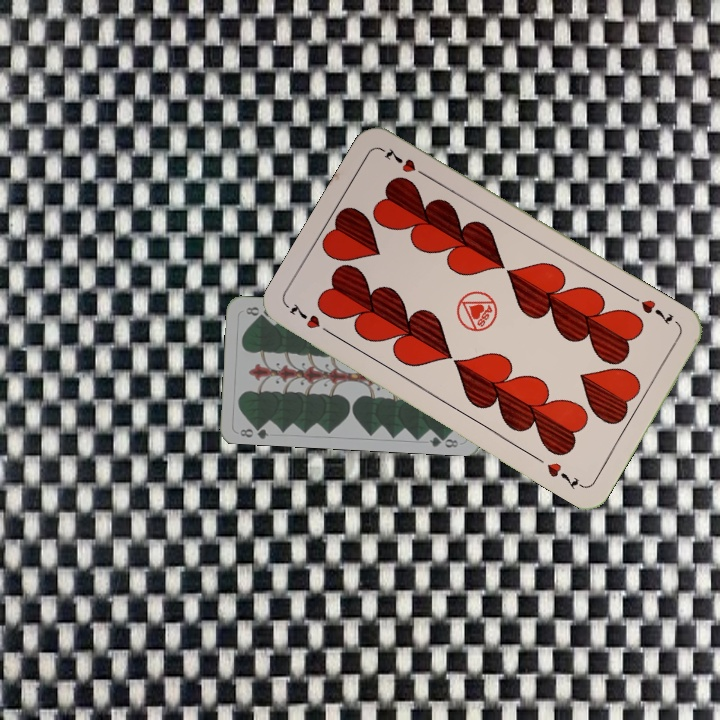G8: (236, 420, 271, 441)
H7: (283, 299, 337, 339), (637, 295, 676, 328)
